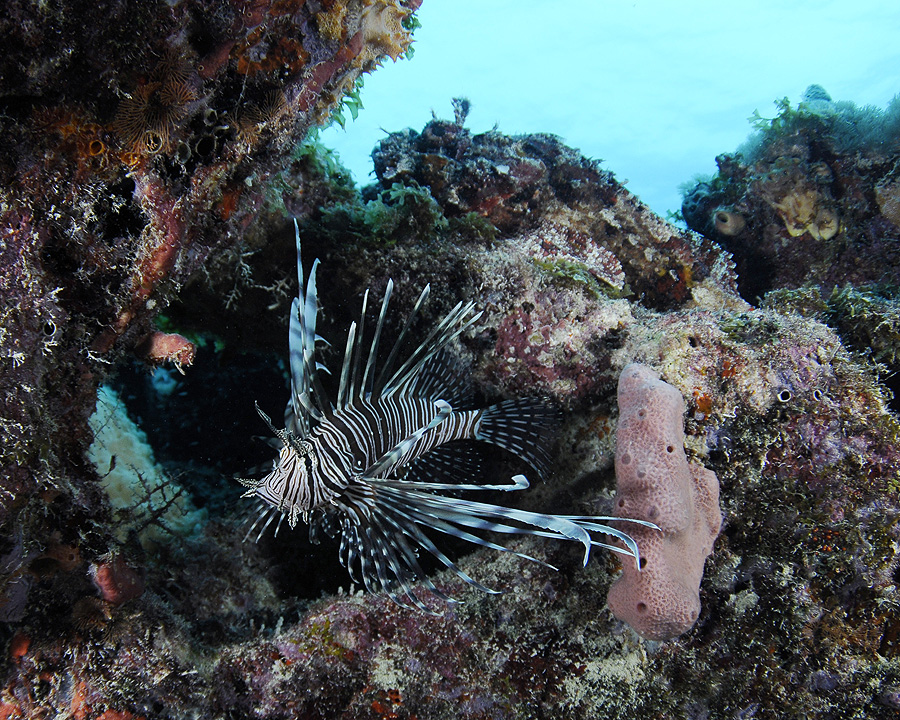Pterois_volitans: (221, 253, 662, 610)
